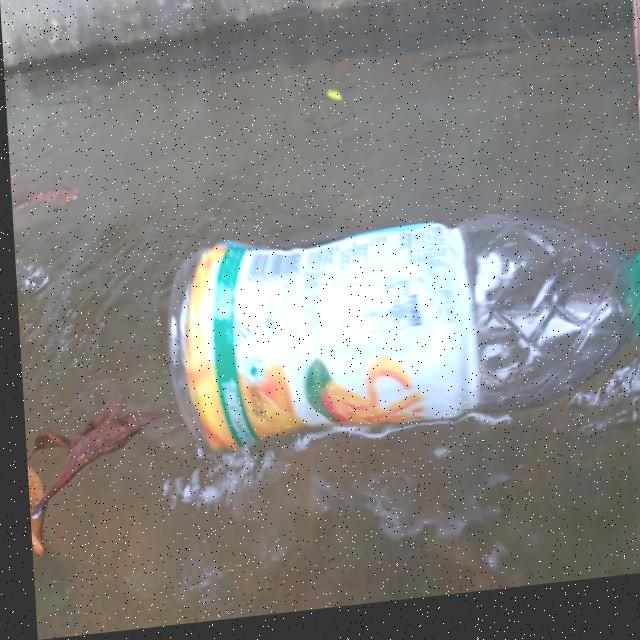leaf: (19, 387, 157, 583)
waterbottle: (139, 199, 640, 473)
